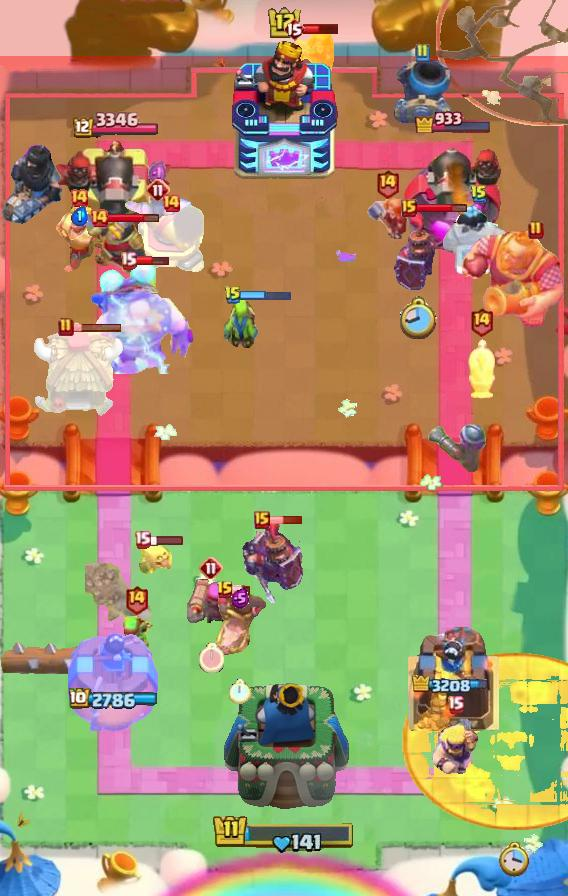arrows: (431, 719, 481, 776)
barbarian: (123, 194, 193, 224)
bat-evolution: (134, 540, 174, 574)
bomb-tower: (427, 422, 489, 476)
clock: (212, 813, 356, 855)
electro-spirit: (147, 160, 169, 186), (231, 588, 249, 609), (71, 206, 89, 226)
elixir: (400, 296, 438, 341), (499, 842, 530, 878), (199, 643, 224, 673), (229, 679, 251, 704)
elixir-golem-big: (242, 518, 308, 610), (391, 212, 447, 294)
emote: (240, 289, 292, 302), (415, 203, 469, 214), (107, 213, 160, 224), (71, 322, 123, 333), (303, 21, 340, 35), (148, 534, 184, 546), (134, 255, 170, 266), (268, 515, 304, 525), (232, 584, 251, 595)
executioner: (465, 338, 497, 402)
firecracker: (85, 214, 146, 278)
fisherman: (86, 562, 155, 625)
freeze: (212, 586, 268, 656)
giant-skeleton: (456, 228, 567, 330)
giant-snowball: (115, 614, 157, 658)
goblin-hut: (57, 203, 103, 273)
guard: (436, 0, 568, 126)
hog-rider: (287, 30, 335, 76), (365, 196, 409, 246)
inferno-dragon: (0, 142, 64, 225)
king-tower: (219, 678, 349, 826), (230, 41, 338, 181)
little-prince: (84, 260, 196, 374)
minion: (0, 638, 100, 680)
musketeer: (392, 59, 452, 123)
phoenix-egg: (402, 652, 568, 832)
prince: (30, 329, 124, 419)
queen-tower: (407, 627, 499, 731), (68, 633, 160, 731)
rage: (439, 204, 519, 274)
royal-recruit: (135, 203, 207, 277)
selected: (70, 112, 158, 140), (68, 688, 159, 712), (414, 108, 494, 133), (412, 675, 494, 697)
text: (376, 168, 401, 199), (124, 585, 149, 616), (470, 307, 495, 337), (146, 178, 170, 202), (199, 556, 223, 580), (283, 17, 305, 41), (69, 188, 89, 208), (161, 193, 181, 213), (89, 208, 109, 228), (470, 184, 488, 204), (224, 285, 242, 305), (216, 580, 234, 600), (119, 251, 137, 270), (133, 531, 151, 550), (447, 694, 465, 713), (414, 43, 430, 63), (528, 220, 544, 240), (58, 317, 74, 337), (401, 199, 417, 217), (254, 511, 270, 529)
tombstone: (187, 573, 235, 629)
tower-bar: (53, 138, 175, 256), (404, 138, 505, 256)
zap: (224, 295, 262, 353)
